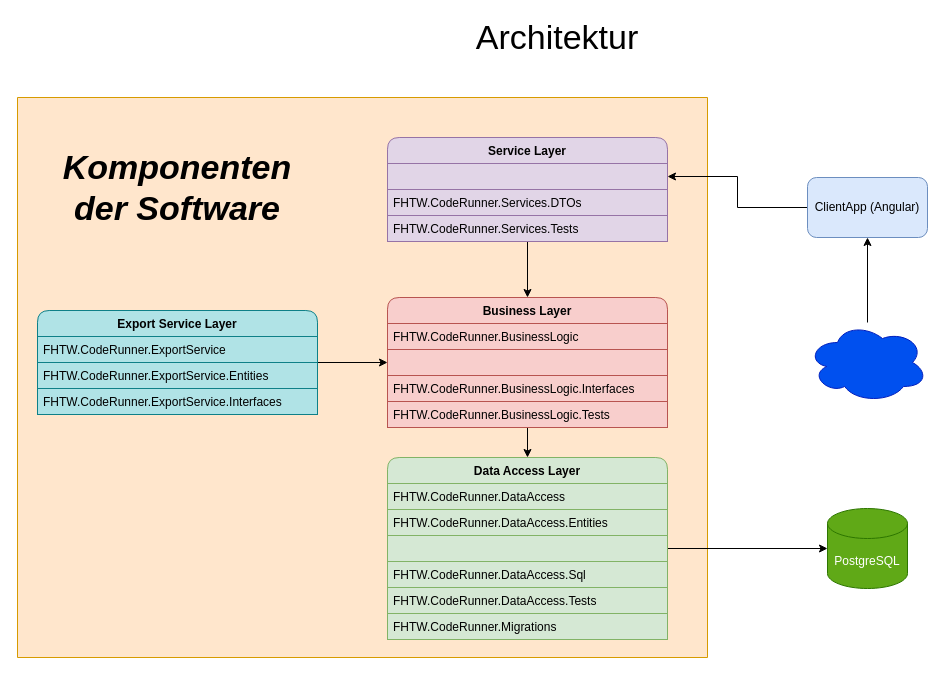
Image size: 945x675. Some labels were removed from this diagram. The shapes that lost their labels are listed below. From the top down, each one's centre as x and y in pixels, then its label:
At pixel 527 176: "FHTW.CodeRunner.Services".
At pixel 527 362: "FHTW.CodeRunner.BusinessLogic.Entities".
At pixel 867 362: "Client".
At pixel 527 548: "FHTW.CodeRunner.DataAccess.Interfaces".
